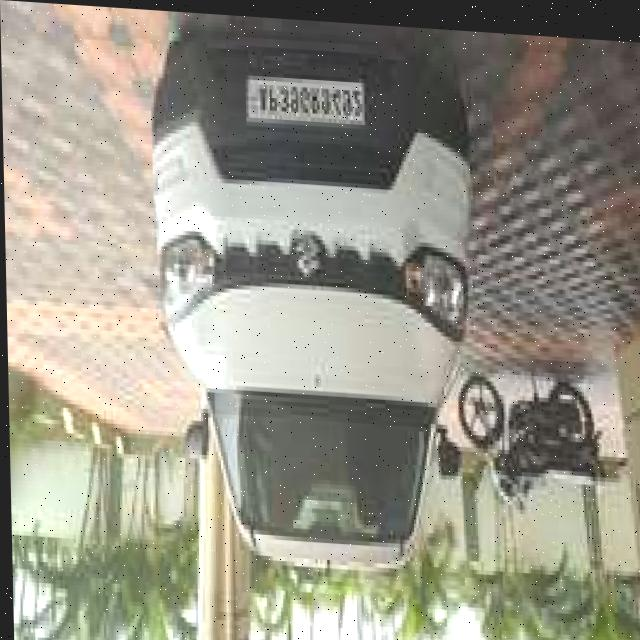plate: (246, 70, 367, 127)
